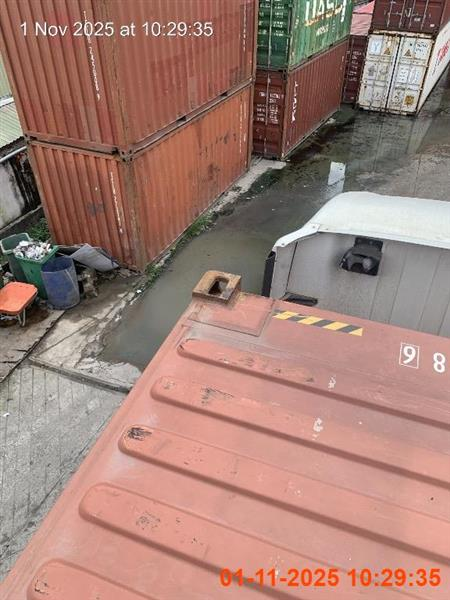scratch: (0, 268, 449, 599), (260, 189, 449, 337)
